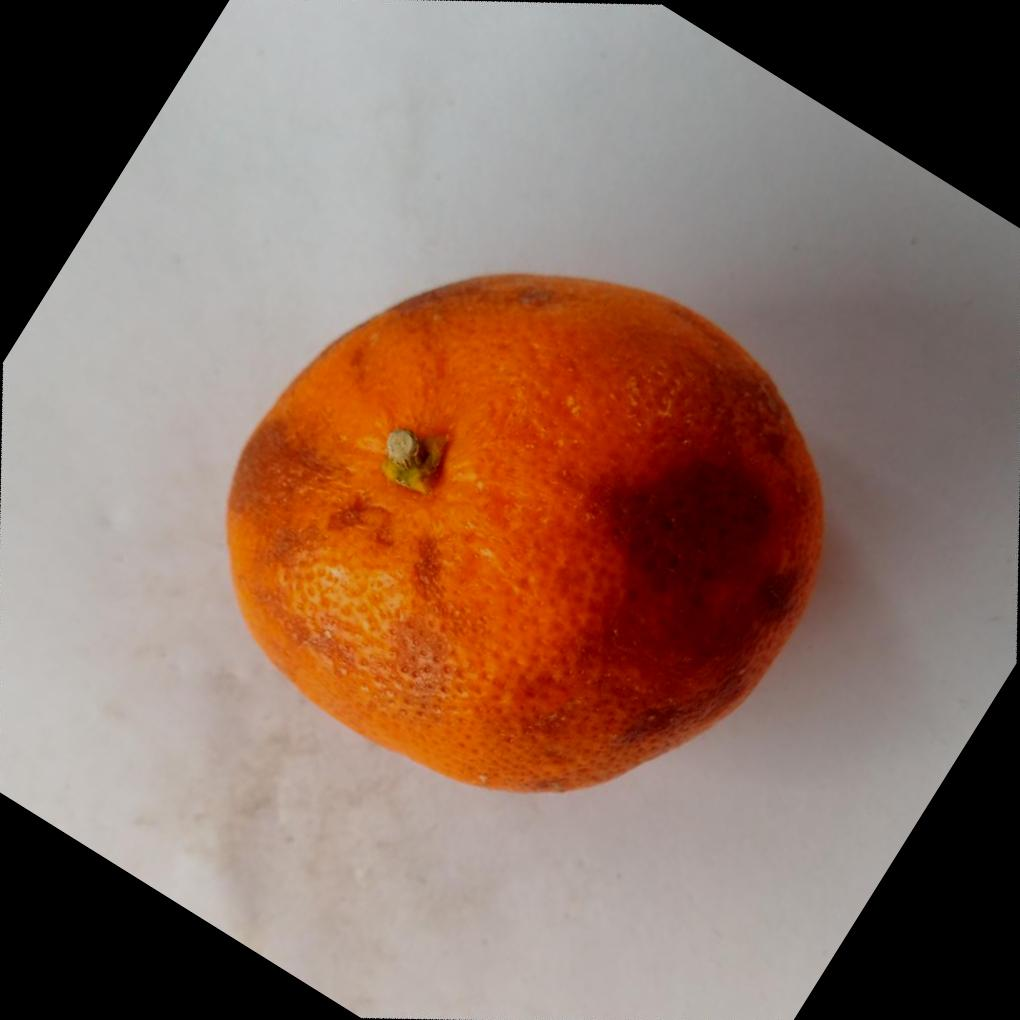FreshOrange: (223, 267, 828, 792)
